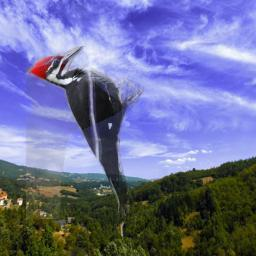Woodpecker: (26, 46, 144, 219)
